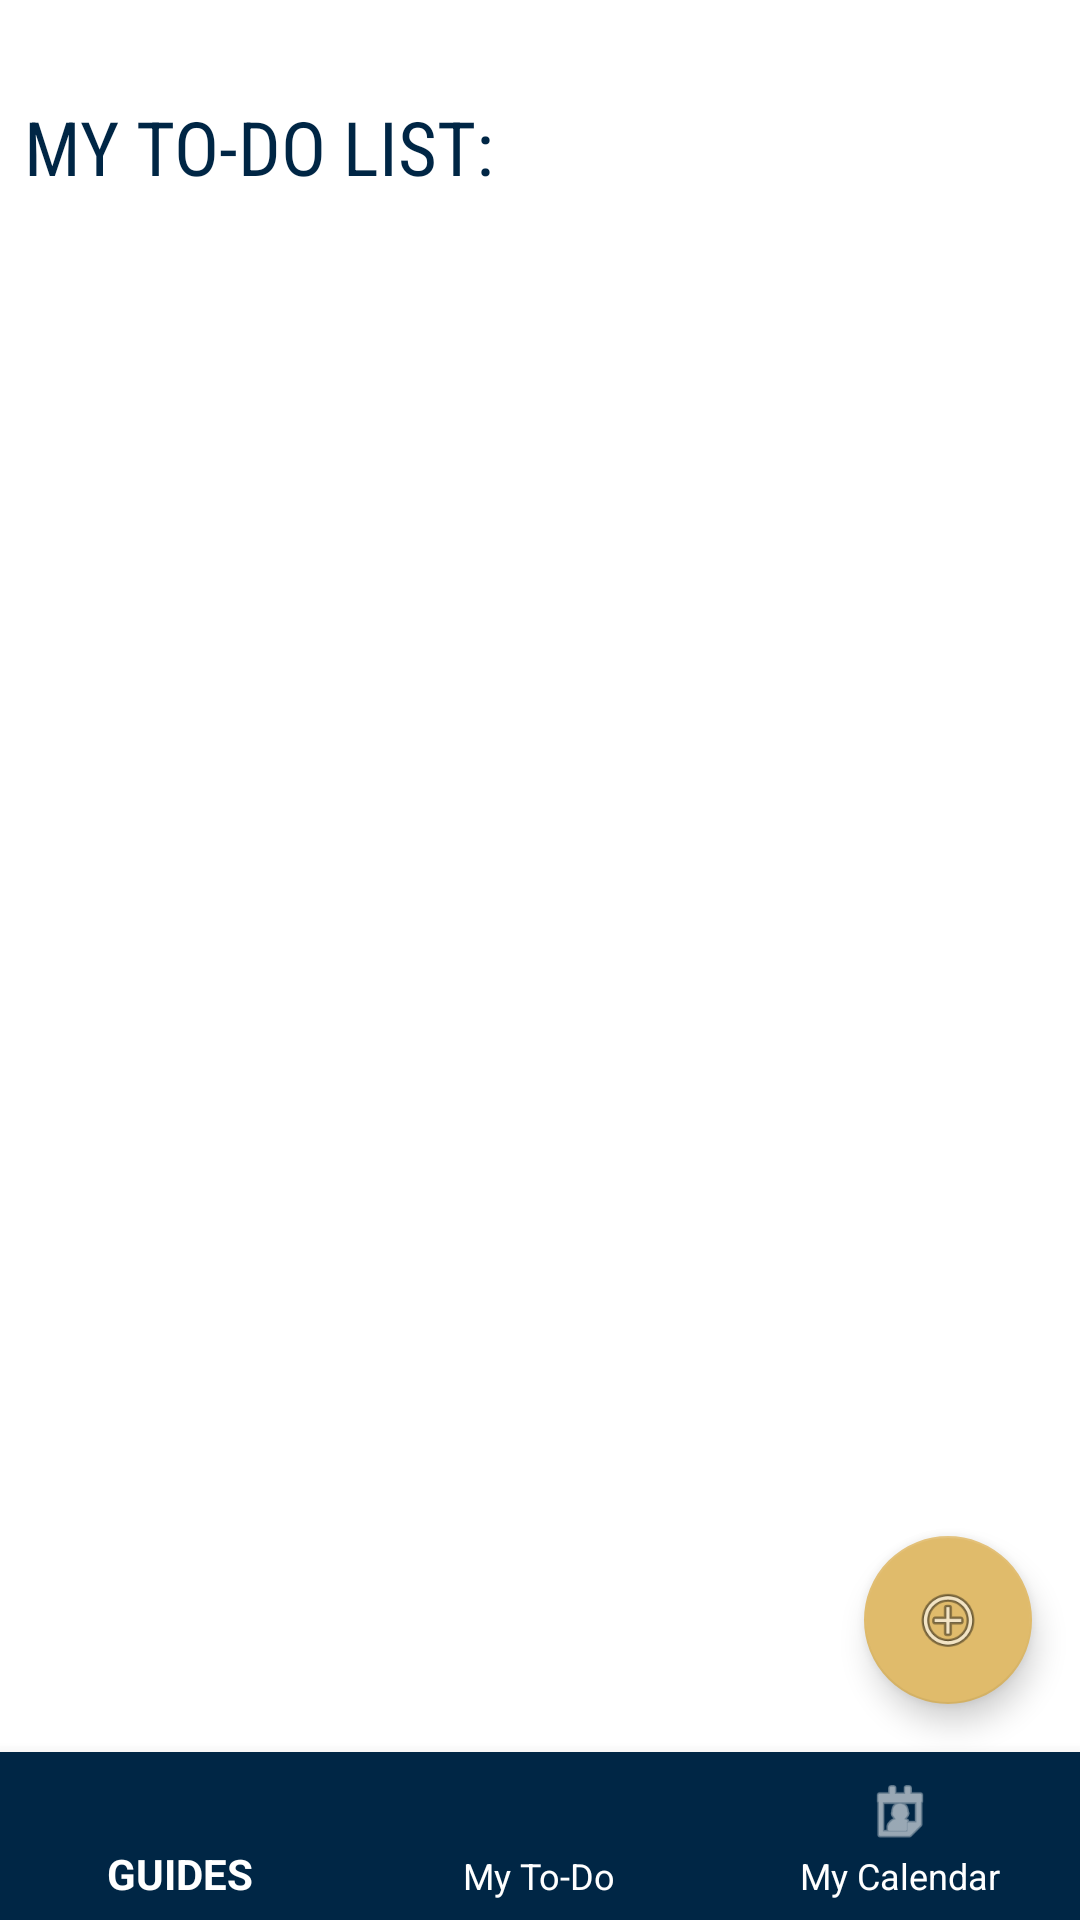

Icon bounding boxes for this 1080px x 1920px phone screenshot, format (left=x1, top=y1, right=x2, bottom=y2):
add: (left=864, top=1536, right=1032, bottom=1704)
